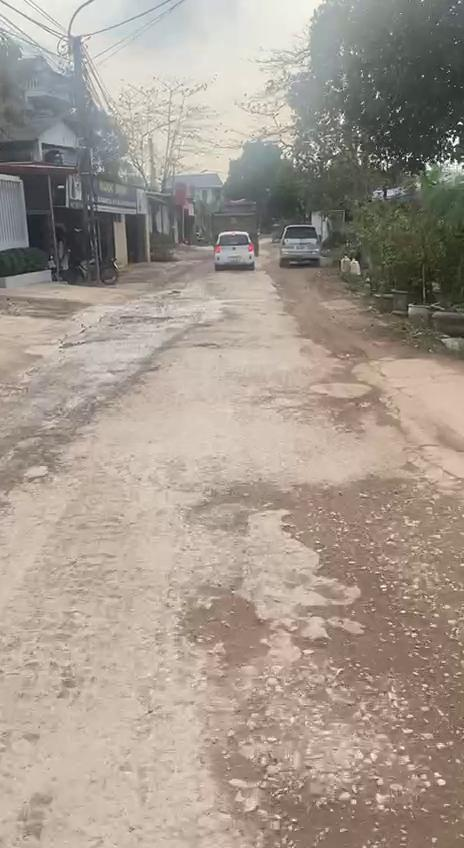pothole: (209, 746, 464, 848), (288, 598, 419, 670), (186, 588, 276, 668)
